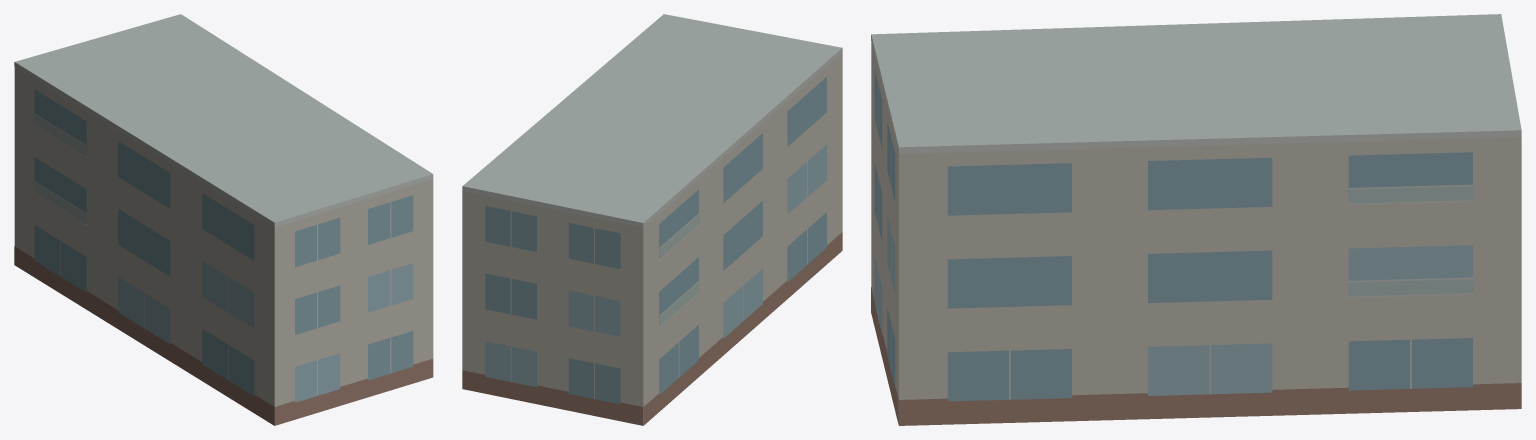
File: survey-upis-32735907.glb
The picture shows the model from 3 angles, left to right: view 1: azimuth 30°, elevation 25°; view 2: azimuth 150°, elevation 25°; view 3: azimuth 270°, elevation 25°; orthographic projection. The views are drawn at different scales.
Visible parts, largest first — view 1: survey-upis-32735907.tmp; view 2: survey-upis-32735907.tmp; view 3: survey-upis-32735907.tmp.
Boxes of the visible parts, x1,y1,x2,y2 form: survey-upis-32735907.tmp: (14,14,433,425); survey-upis-32735907.tmp: (462,14,842,425); survey-upis-32735907.tmp: (871,14,1521,425).
Size of the model in its own units: 10.47 by 10.2 by 21.59.
